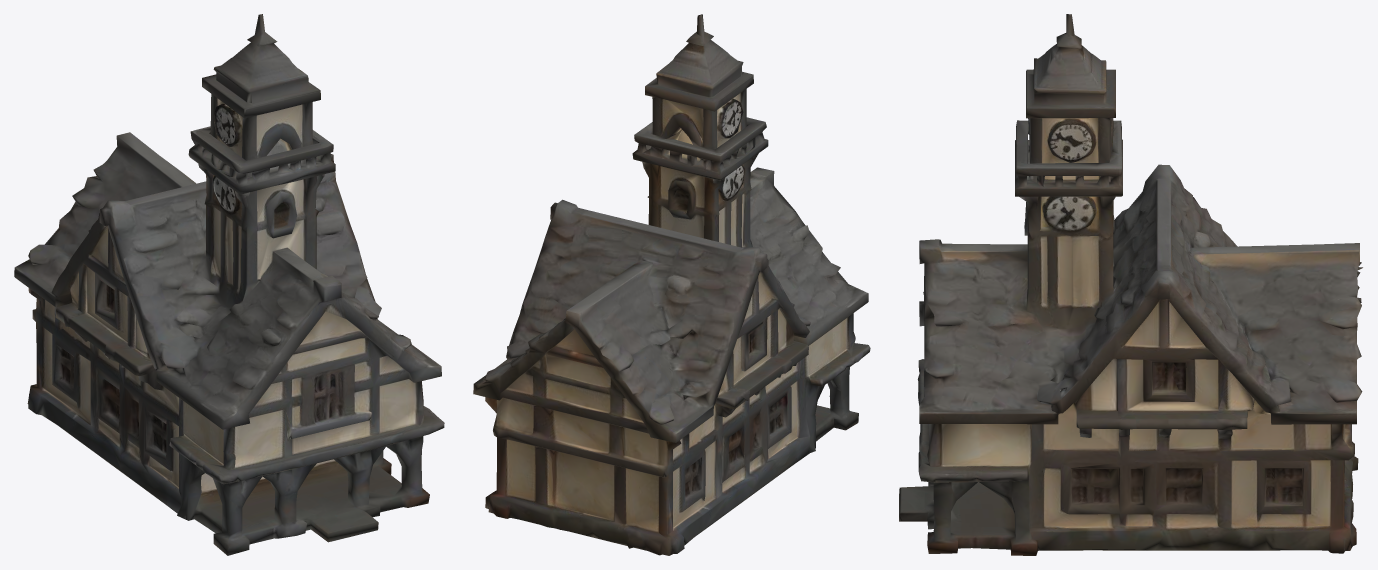
File: townhall.glb
The picture shows the model from 3 angles, left to right: view 1: azimuth 30°, elevation 25°; view 2: azimuth 150°, elevation 25°; view 3: azimuth 270°, elevation 25°; orthographic projection. The views are drawn at different scales.
Visible parts, largest first — view 1: TownhallBody; view 2: TownhallBody; view 3: TownhallBody.
Part boxes in pixels (x1,y1,x2,y2): TownhallBody: (14,14,444,555); TownhallBody: (473,14,870,555); TownhallBody: (899,14,1362,555).
Bounding box in the file's own units: 7.79 × 13.97 × 12.
Materials: 1 (1 with a texture image).
